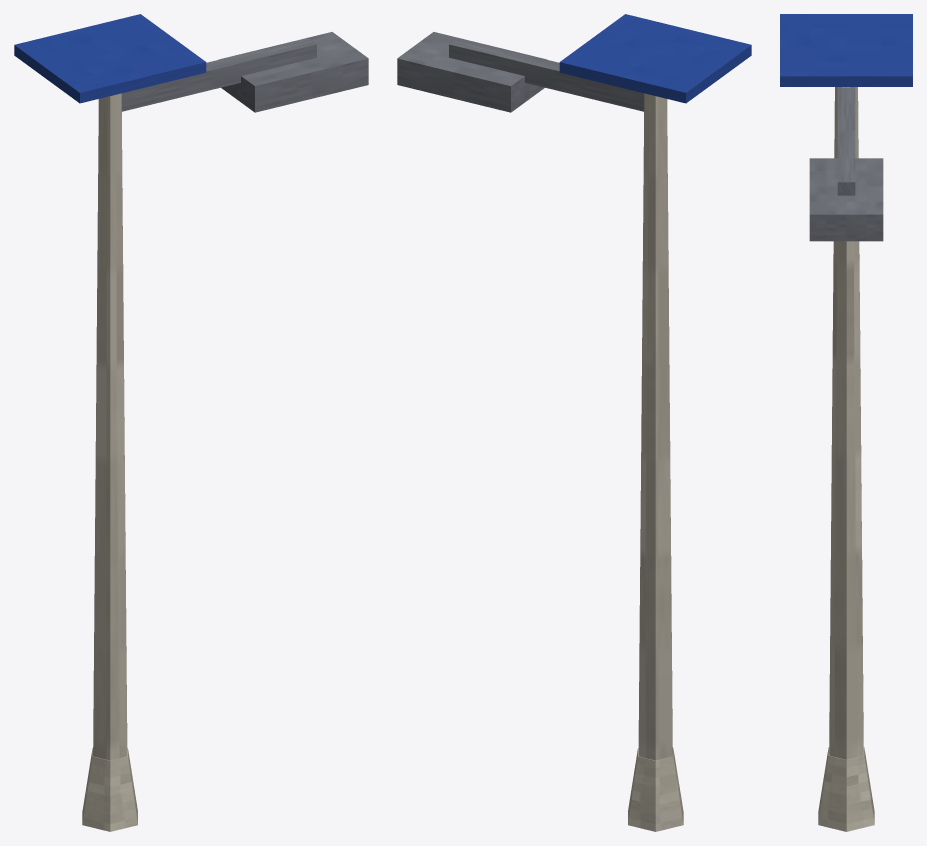
Rendered from lamp-cream-far.glb.
3 renders of one model, left to right at view 1: azimuth 30°, elevation 25°; view 2: azimuth 150°, elevation 25°; view 3: azimuth 270°, elevation 25°, orthographic.
Visible parts, largest first — view 1: lamp-cream-far; view 2: lamp-cream-far; view 3: lamp-cream-far.
Boxes of the visible parts, x1,y1,x2,y2 form: lamp-cream-far: [14, 14, 368, 831]; lamp-cream-far: [397, 14, 751, 831]; lamp-cream-far: [780, 14, 912, 831].
Size of the model in its own units: 2.4 by 5.78 by 0.9.
Materials: 1 (1 with a texture image).
